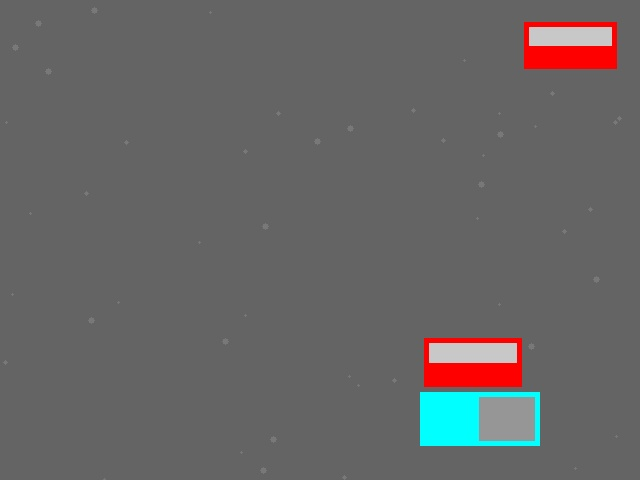car: (424, 338, 521, 386), (524, 22, 616, 68)
truck: (420, 392, 539, 445)
